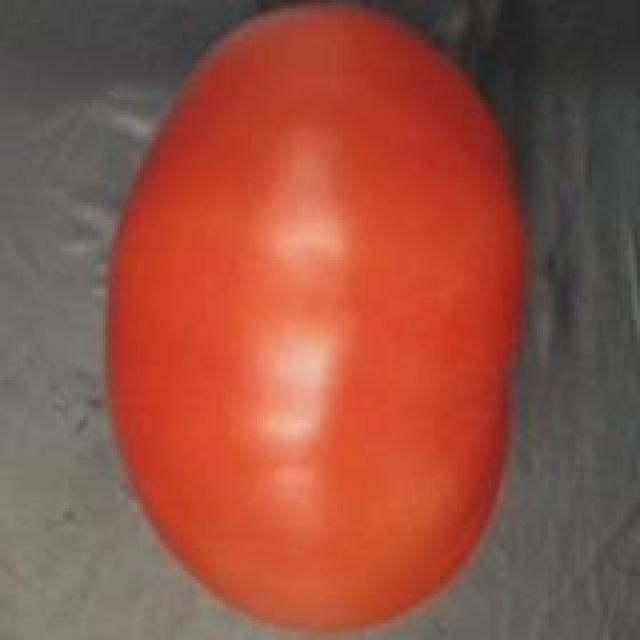ripe tomato: (86, 3, 546, 640)
